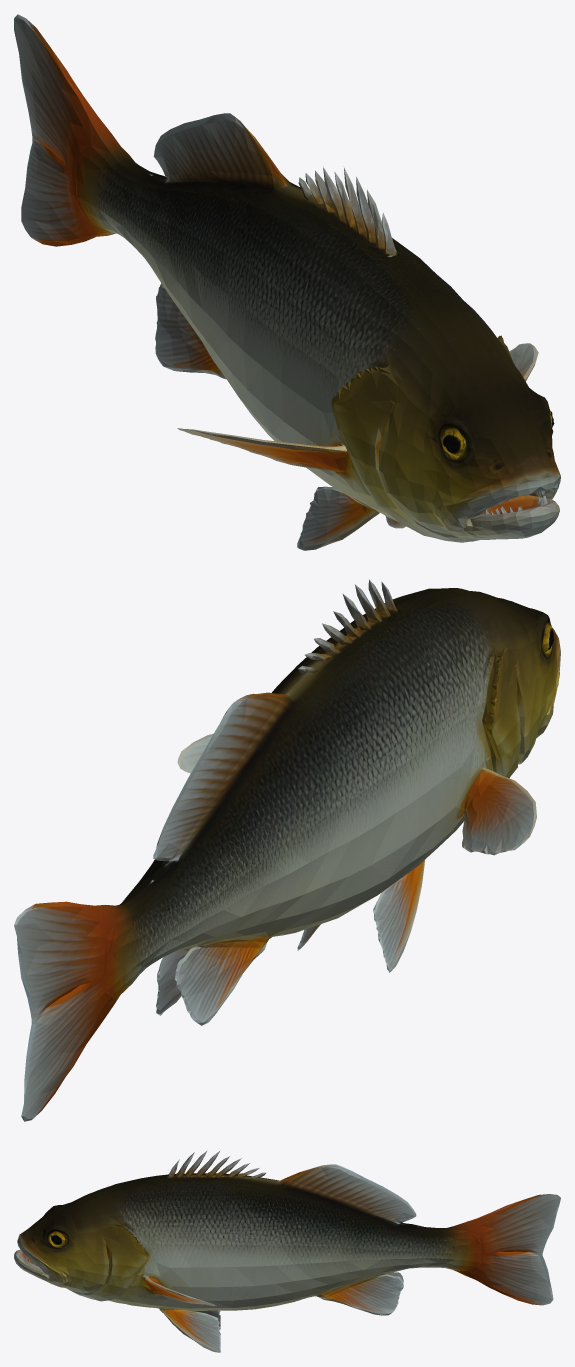
The model's file is yellow+perch+3d+model.glb.
3 views of the same model, one above another, from view 1: azimuth 30°, elevation 25°; view 2: azimuth 150°, elevation 25°; view 3: azimuth 270°, elevation 25° (orthographic). The views are drawn at different scales.
Parts seen in each view (by area): view 1: tripo_node_830cb25c-f459-4004-a6ce-99b3dcb55de4; view 2: tripo_node_830cb25c-f459-4004-a6ce-99b3dcb55de4; view 3: tripo_node_830cb25c-f459-4004-a6ce-99b3dcb55de4.
Part boxes in pixels (<box>): tripo_node_830cb25c-f459-4004-a6ce-99b3dcb55de4: <box>14,14,560,550</box>; tripo_node_830cb25c-f459-4004-a6ce-99b3dcb55de4: <box>14,579,560,1121</box>; tripo_node_830cb25c-f459-4004-a6ce-99b3dcb55de4: <box>14,1150,560,1352</box>.
Size of the model in its own units: 0.3809 by 0.3848 by 0.998.
Materials: 1 (1 with a texture image).
